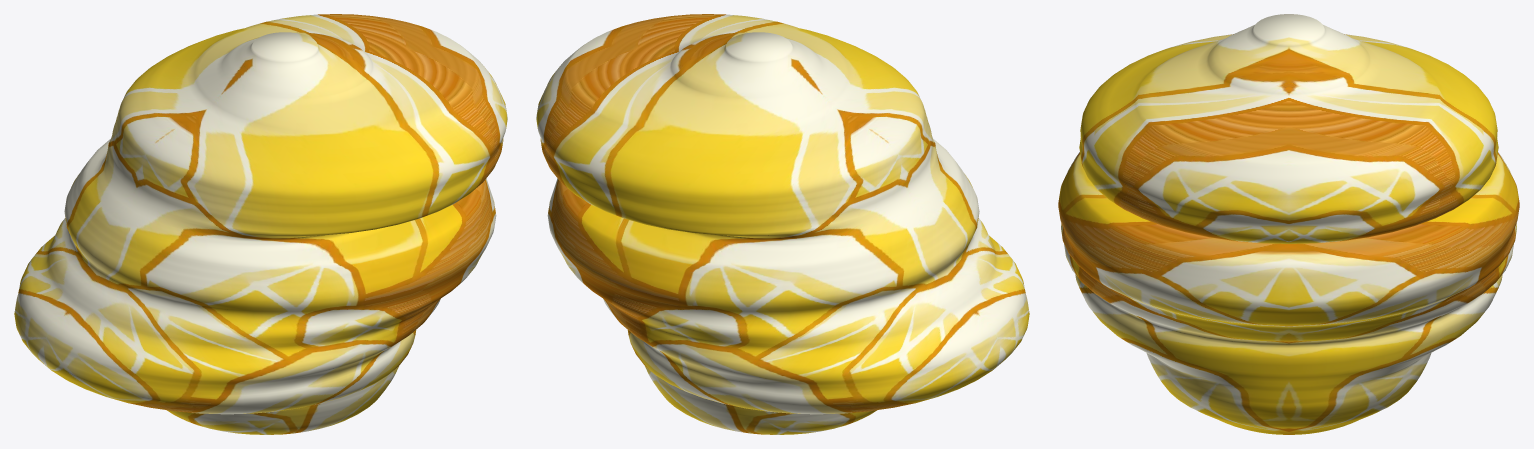
The model's file is gold_crystals.glb.
3 renders of one model, left to right at view 1: azimuth 30°, elevation 25°; view 2: azimuth 150°, elevation 25°; view 3: azimuth 270°, elevation 25°, orthographic. The views are drawn at different scales.
Visible parts, largest first — view 1: gold_crystals; view 2: gold_crystals; view 3: gold_crystals.
Part boxes in pixels (x1,y1,x2,y2): gold_crystals: (14, 14, 507, 434); gold_crystals: (536, 14, 1029, 434); gold_crystals: (1058, 14, 1519, 434).
Size of the model in its own units: 0.9935 by 0.7932 by 0.8428.
Materials: 1 (1 with a texture image).
